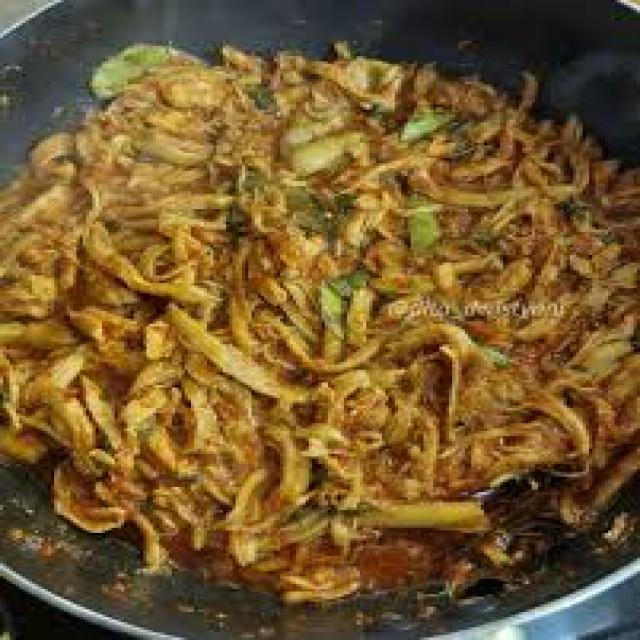ayam_suwir: (0, 45, 640, 592)
